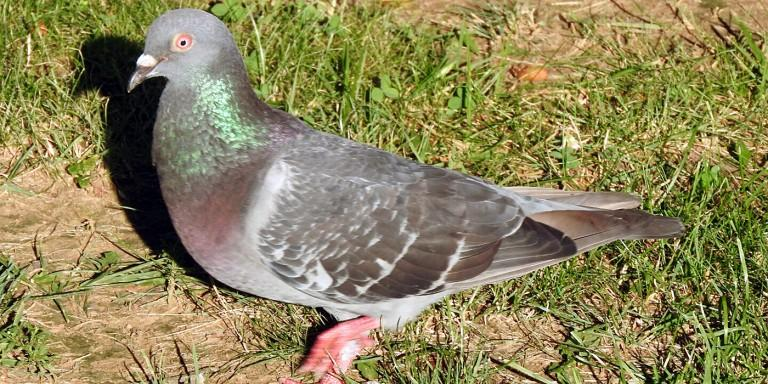Flying Rat: (119, 9, 673, 377)
